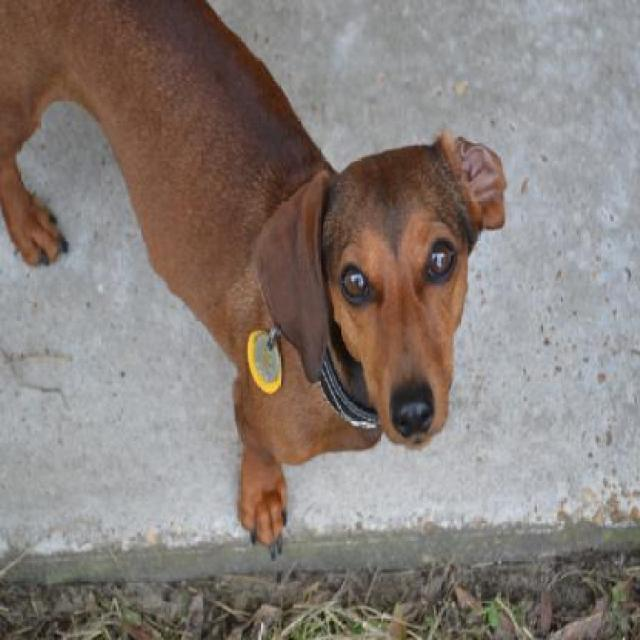Dog: (3, 3, 509, 565)
